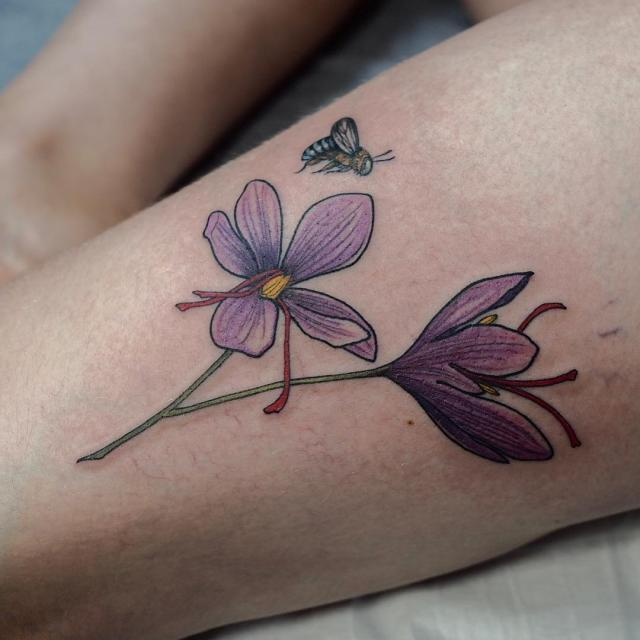Flower: (383, 259, 554, 479), (198, 181, 392, 363)
stigma: (492, 366, 586, 446), (268, 313, 310, 412), (176, 272, 292, 304), (522, 290, 570, 338)
